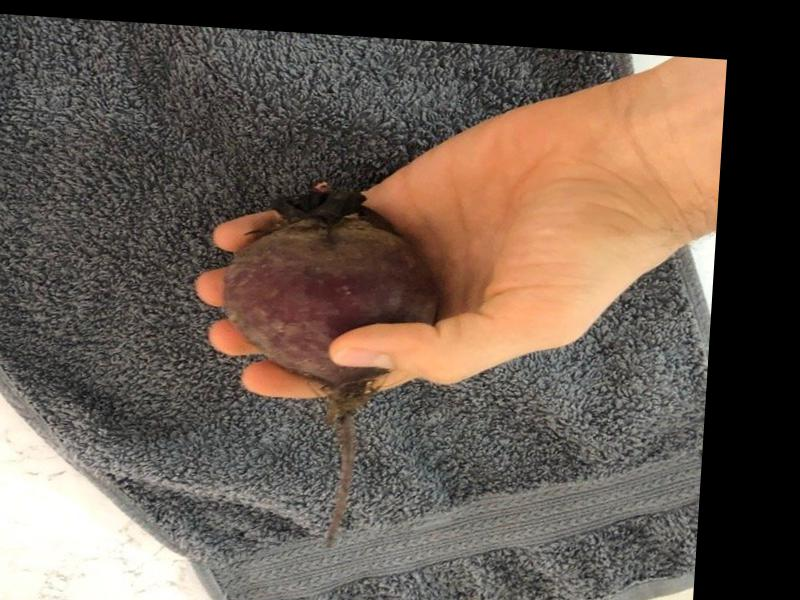Beet: (205, 184, 446, 553)
